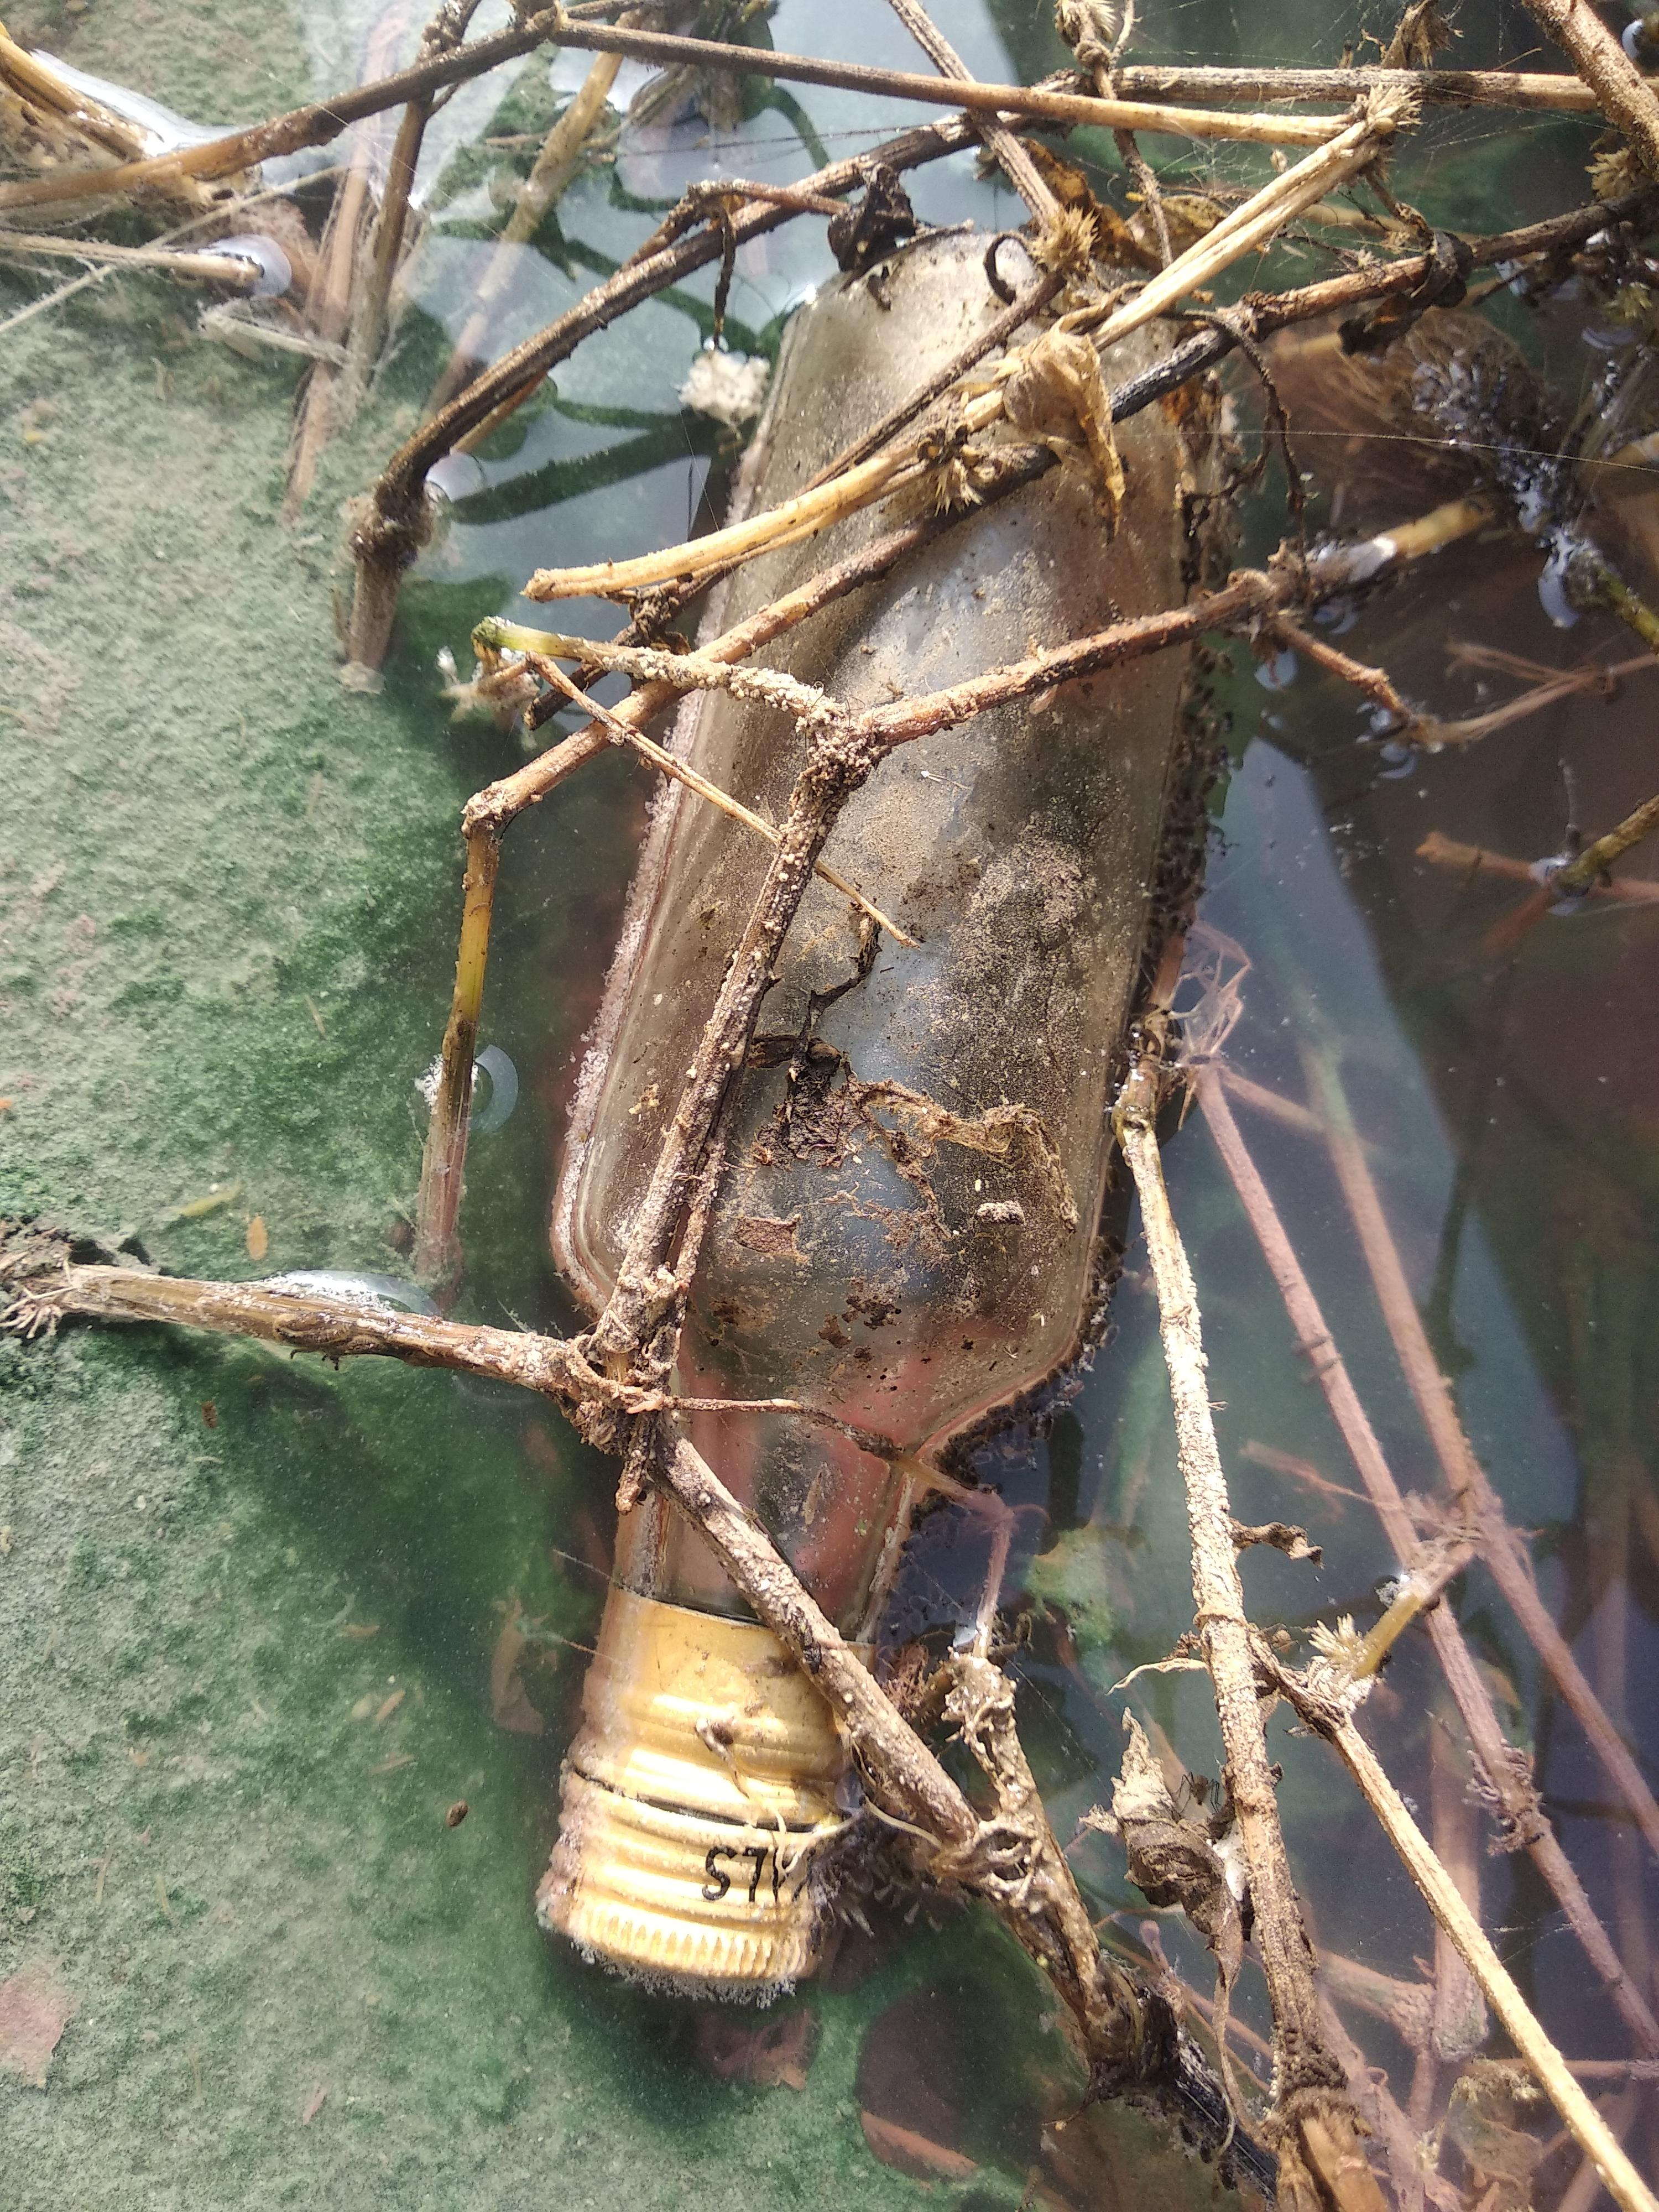organic: (31, 160, 1654, 2022)
